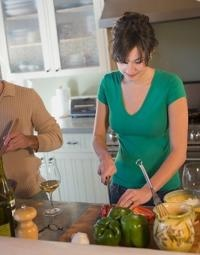person without safety: (90, 10, 191, 196)
